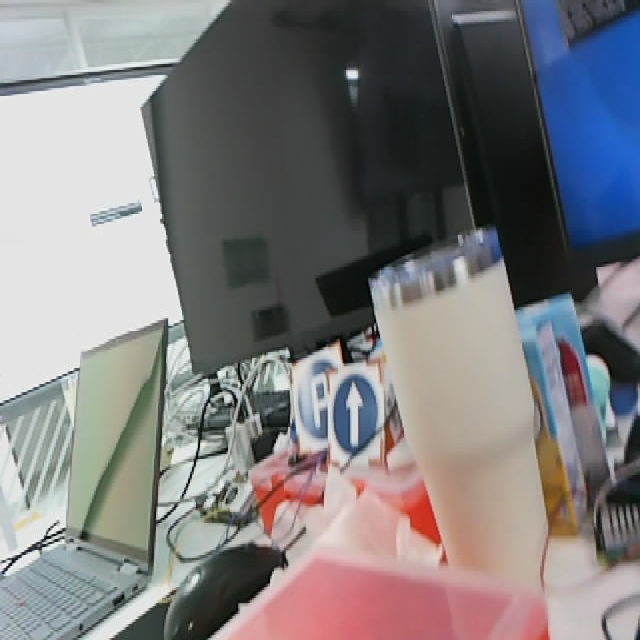parking: (288, 347, 344, 455)
straight: (329, 358, 384, 470)
